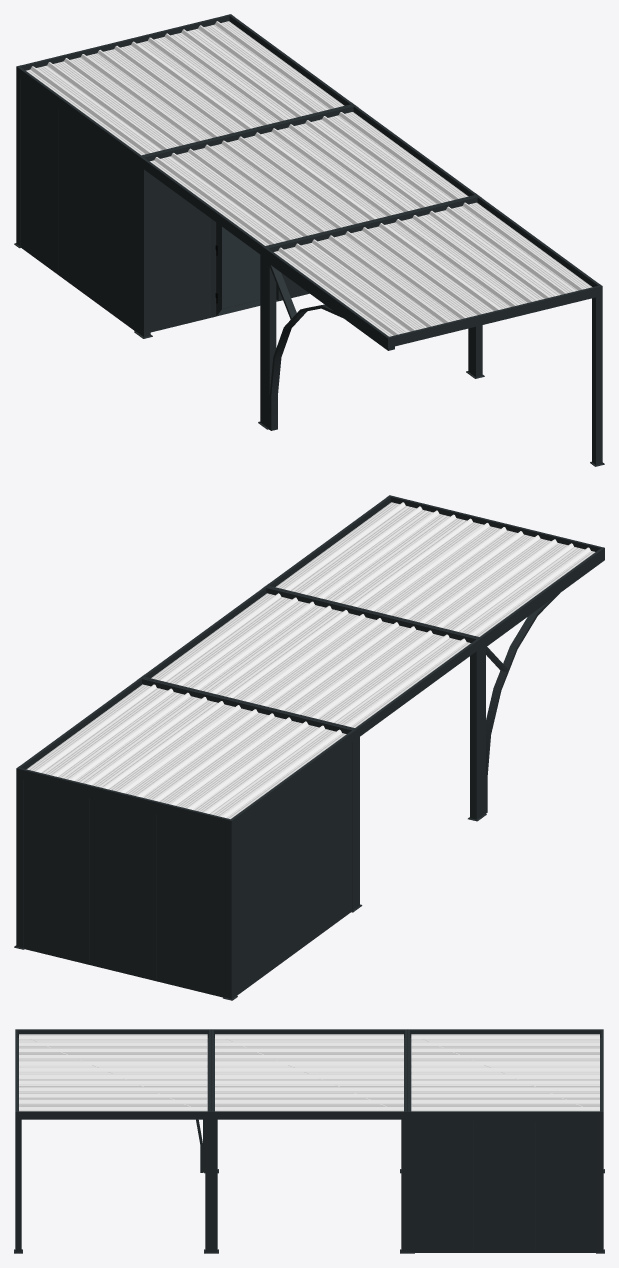
Rendered from 13446_3x3_entreegauche.fbx.
3 views of the same model, one above another, from view 1: azimuth 30°, elevation 25°; view 2: azimuth 150°, elevation 25°; view 3: azimuth 270°, elevation 25° (orthographic). The views are drawn at different scales.
Parts seen in each view (by area): view 1: priximbattable_net_abris_de_voiture_13446_module_carport_ave, folha; view 2: priximbattable_net_abris_de_voiture_13446_module_carport_ave; view 3: priximbattable_net_abris_de_voiture_13446_module_carport_ave.
Part boxes in pixels (left/top/right/bottom): priximbattable_net_abris_de_voiture_13446_module_carport_ave: left=14, top=14, right=604, bottom=466; folha: left=215, top=222, right=278, bottom=316; priximbattable_net_abris_de_voiture_13446_module_carport_ave: left=14, top=495, right=604, bottom=1000; priximbattable_net_abris_de_voiture_13446_module_carport_ave: left=14, top=1029, right=604, bottom=1253.
Bounding box in the file's own units: 324 × 254 × 964.
Materials: 1 (1 with a texture image).
